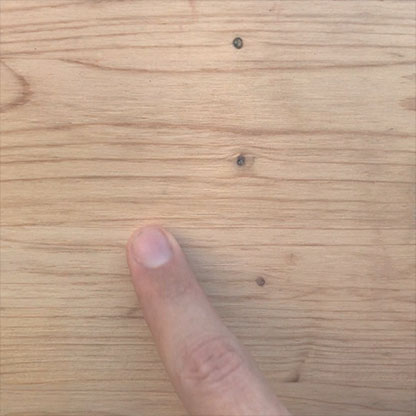fingertip: (122, 220, 201, 283)
